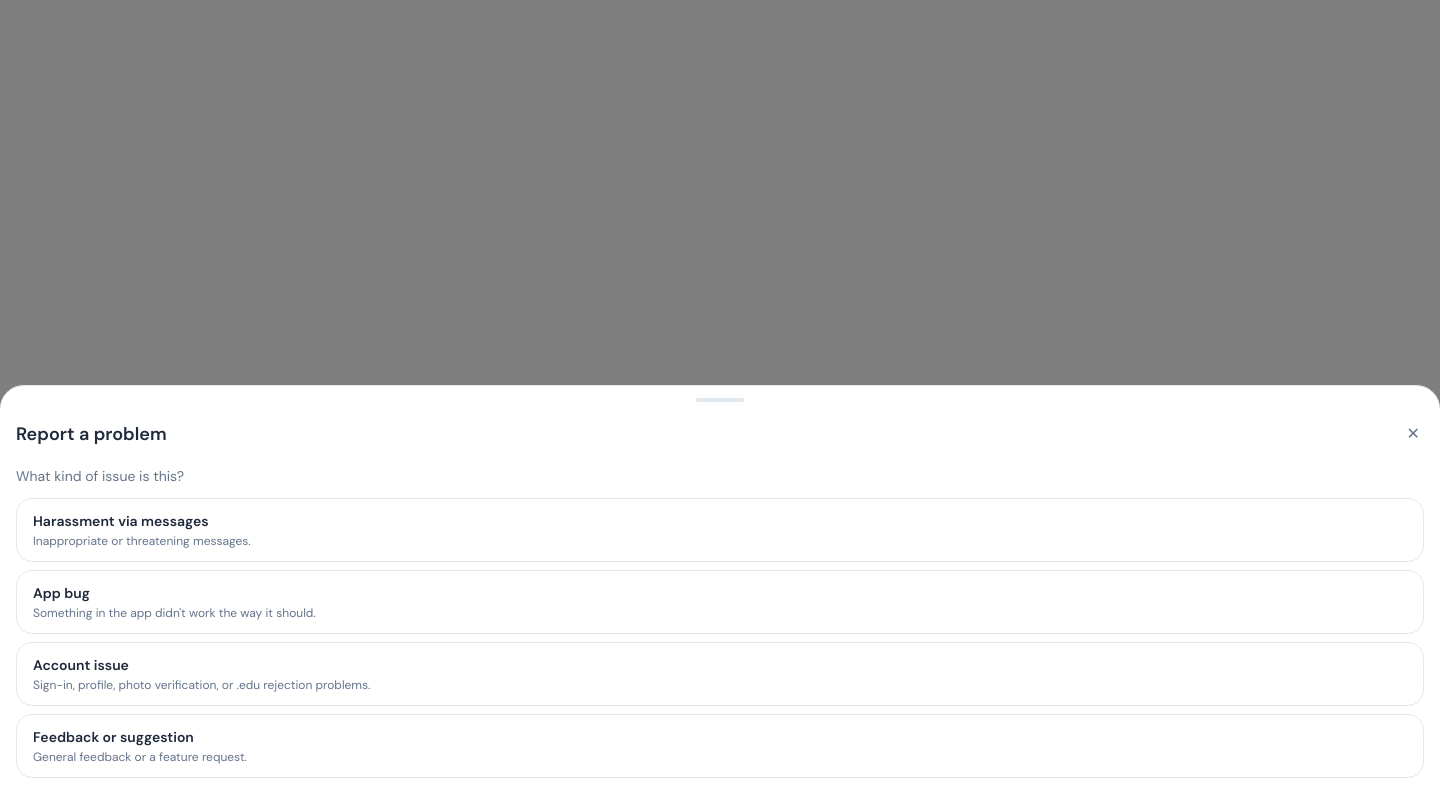
Test: ReportFlowSheet › advances to form on category pick + disables Continue until body is long enough
This screenshot has width=1440, height=810.
Click the button with test id "report-category-bug_report": (61, 593) [16,570,1424,634]
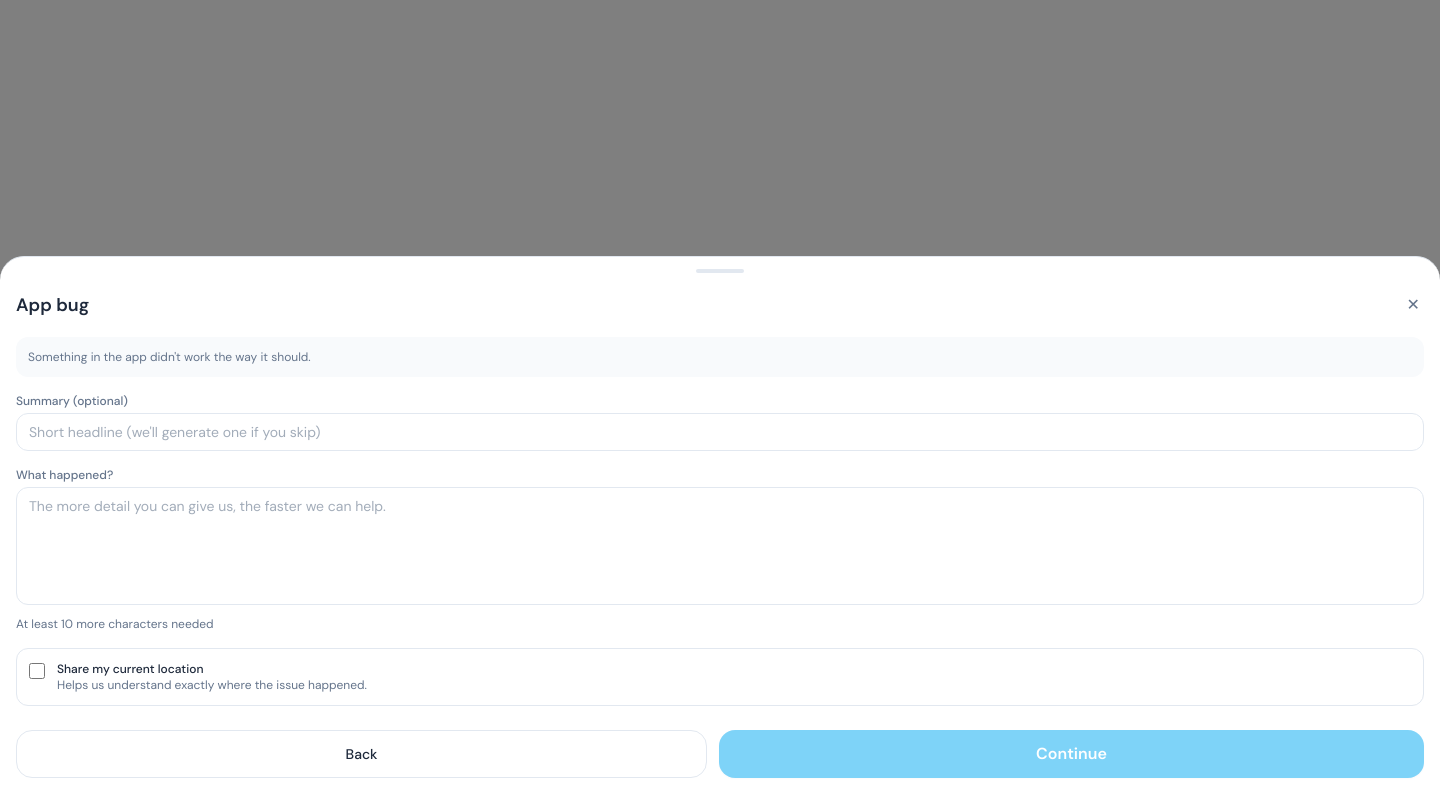
Expected: the element with test id "report-step-form" is shown, [16,337,1424,778]
Expected: the button with test id "report-continue-button" is disabled, [719,730,1424,778]
In the text box with test id "report-body-input": (720, 546) [16,487,1424,605], type "too short"
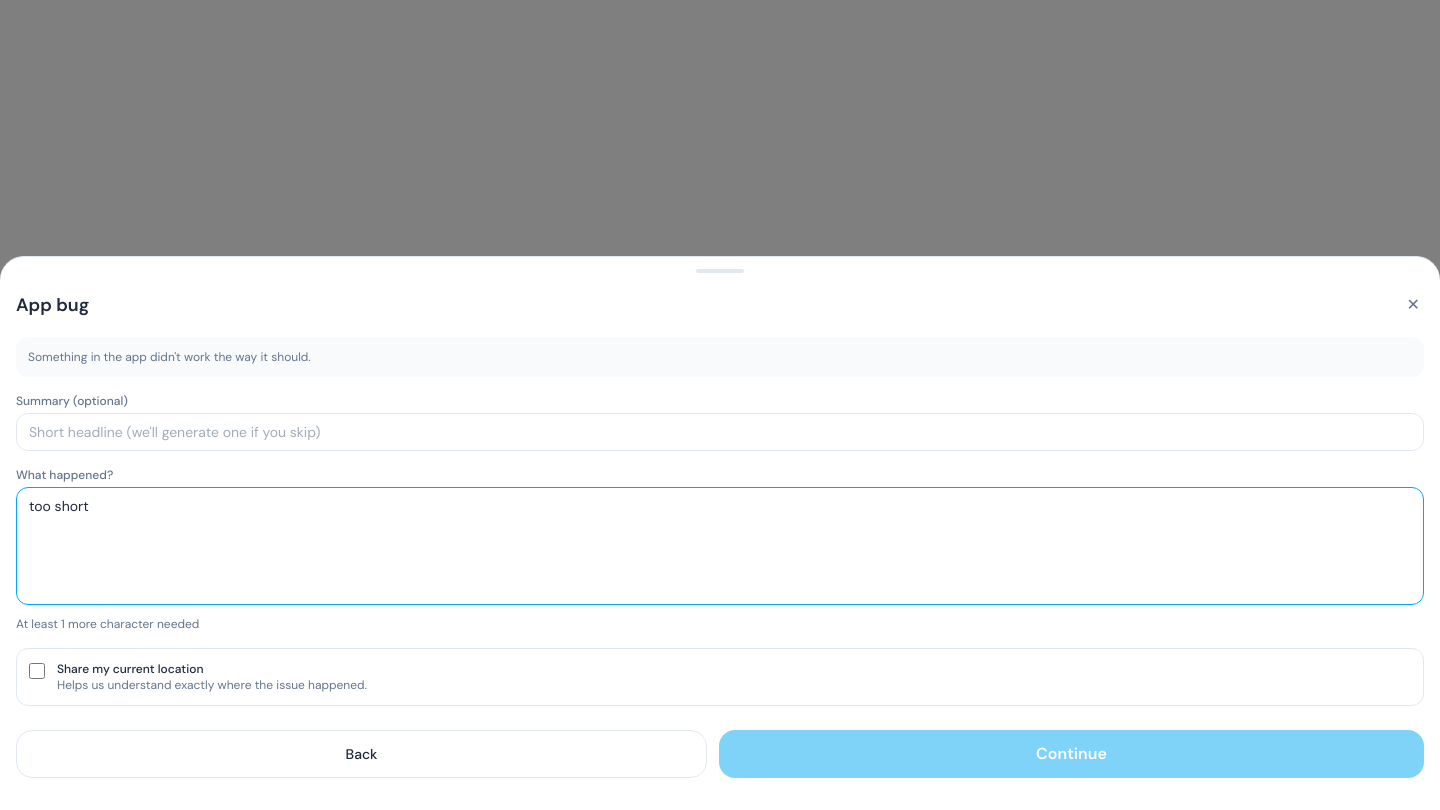
Expected: the button with test id "report-continue-button" is disabled, [719,730,1424,778]
In the text box with test id "report-body-input": (720, 546) [16,487,1424,605], type " but now over 10 characters"
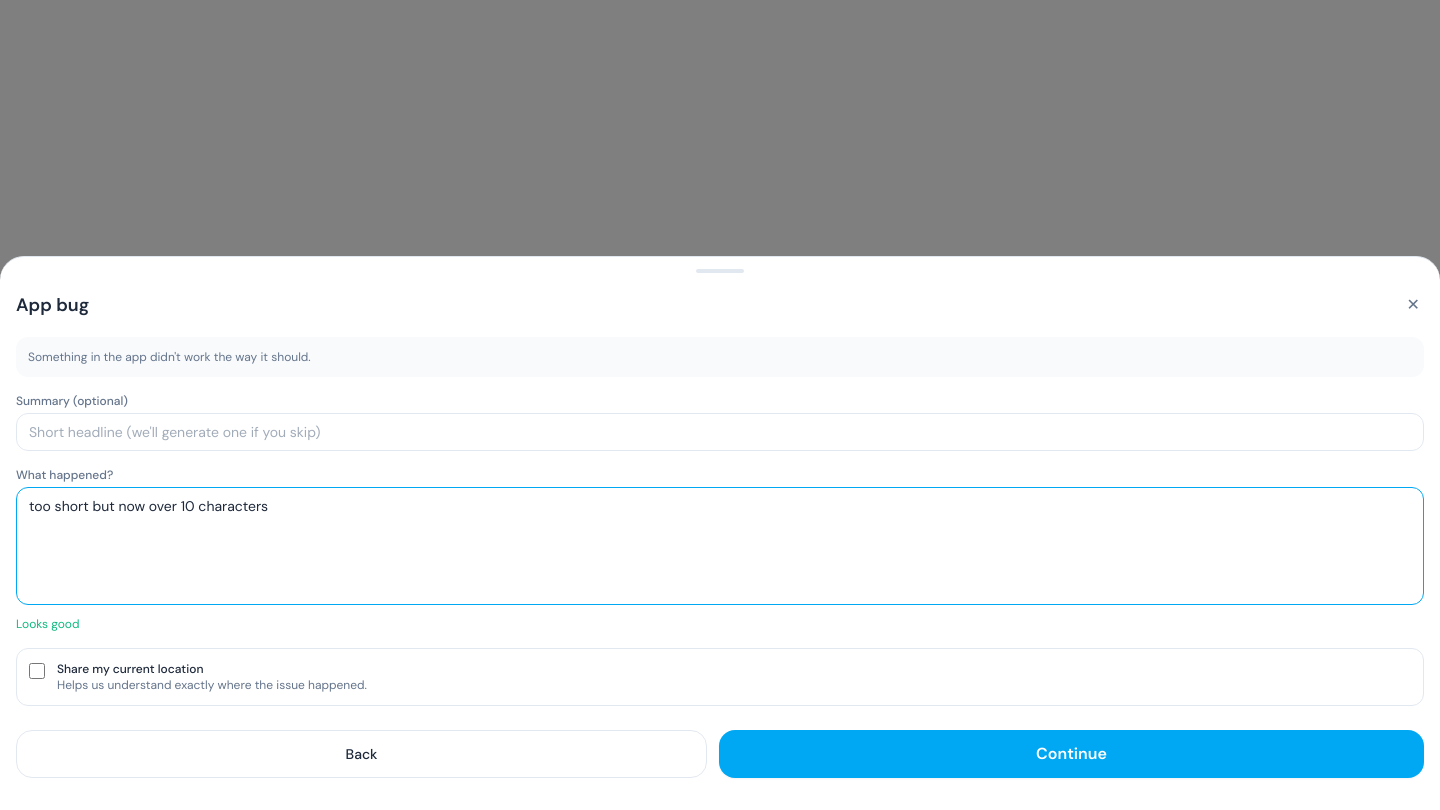
Expected: the button with test id "report-continue-button" is enabled, [719,730,1424,778]
